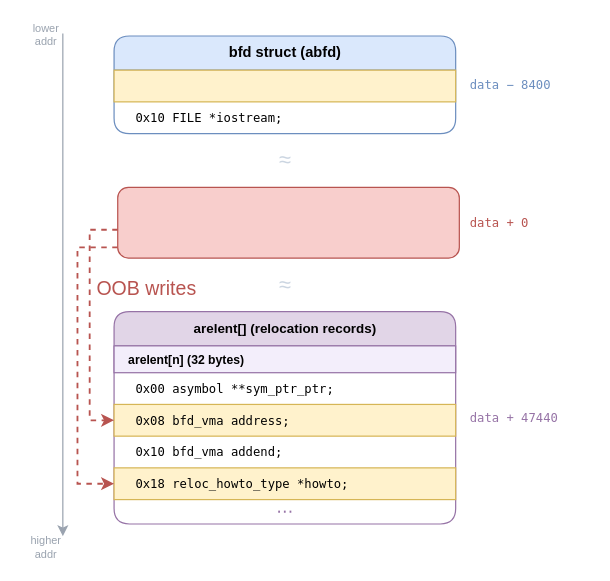
Some shapes in this 610 by 581 pixel diagram are drawn without their labels. Here are the shapes that lost their labels. From the top down, the centre of each, then its label:
At point (284, 85): "0x08 bfd_target *xvec;".
At point (288, 222): ".debug_info buffer (char* data)".
